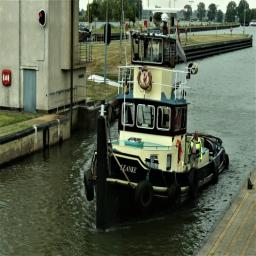tugboat: (84, 7, 232, 238)
